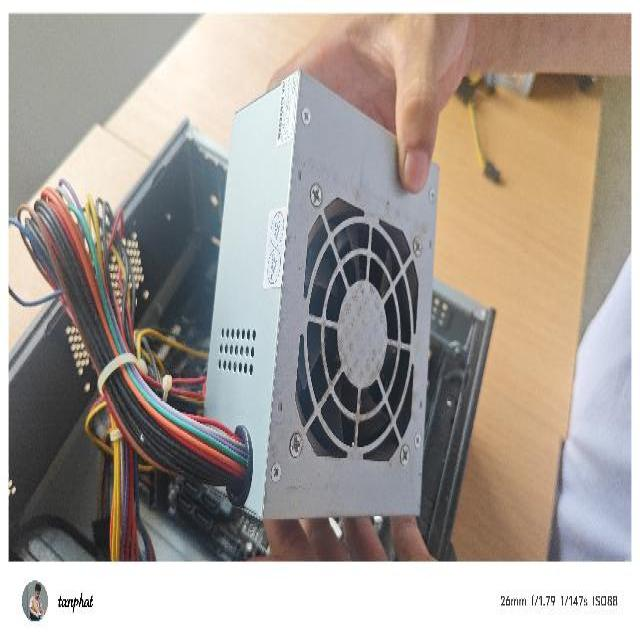PSU: (188, 69, 442, 519)
